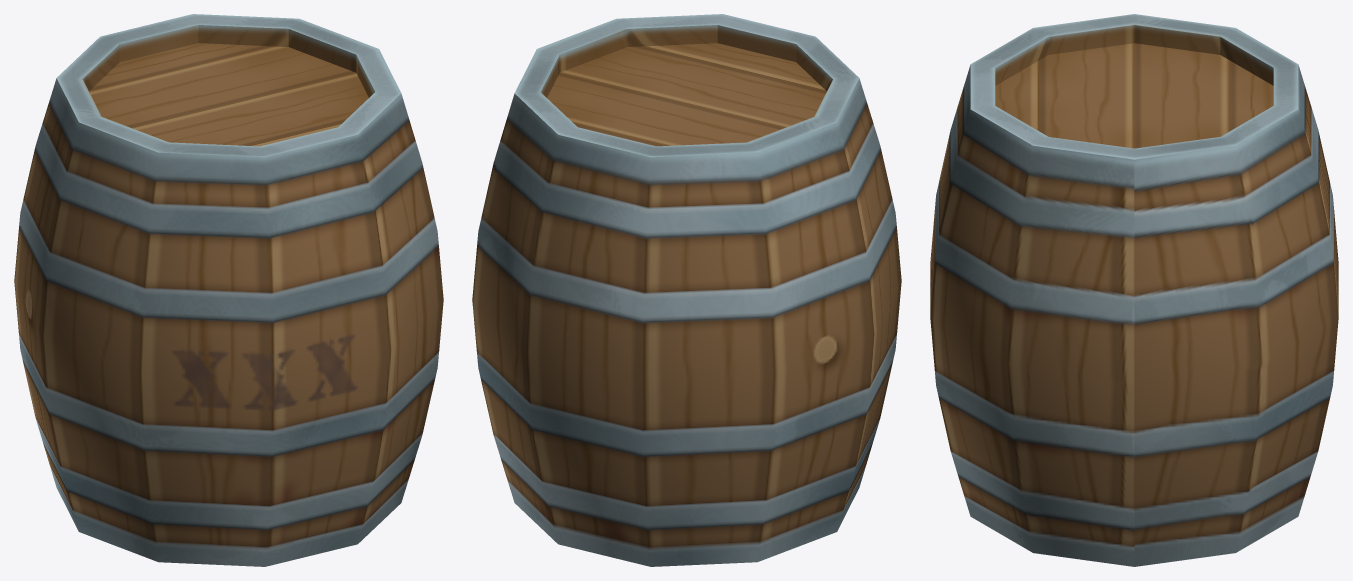
The model's file is Barrel.FBX.
3 views of the same model, side by side, from view 1: azimuth 30°, elevation 25°; view 2: azimuth 150°, elevation 25°; view 3: azimuth 270°, elevation 25° (orthographic).
Visible parts, largest first — view 1: Barrel; view 2: Barrel; view 3: Barrel.
Part boxes in pixels (x1,y1,x2,y2): Barrel: (14, 14, 443, 566); Barrel: (472, 14, 901, 566); Barrel: (930, 14, 1338, 566).
Size of the model in its own units: 33.85 by 35.43 by 32.19.
